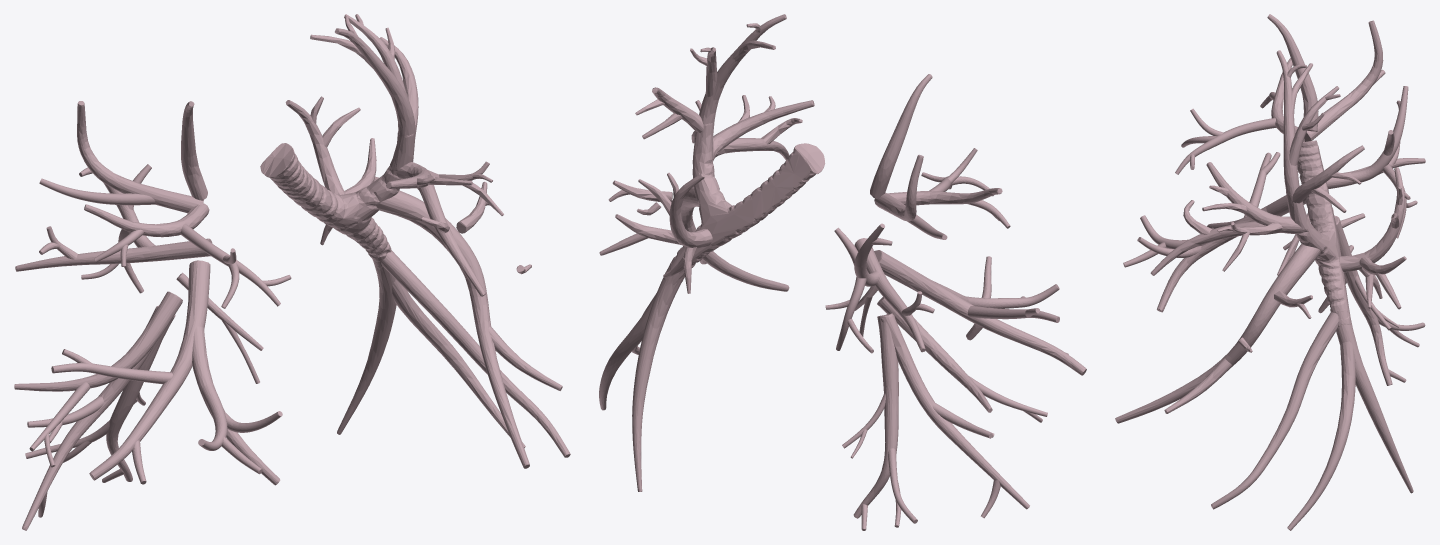
Rendered from respiratory-00.glb.
3 views of the same model, side by side, from view 1: azimuth 30°, elevation 25°; view 2: azimuth 150°, elevation 25°; view 3: azimuth 270°, elevation 25° (orthographic). The views are drawn at different scales.
Visible parts, largest first — view 1: FJ2450, FJ2441, FJ2449, FJ2442, FJ2452, FJ2445, FJ2458, FJ2446, FJ2459, FJ2455, FJ2444, FJ2451 (+16 smaller); view 2: FJ2450, FJ2449, FJ2446, FJ2455, FJ2457, FJ2454, FJ2452, FJ2441, FJ2444, FJ2443, FJ2445, FJ2448 (+13 smaller); view 3: FJ2450, FJ2441, FJ2442, FJ2445, FJ2446, FJ2458, FJ2457, FJ2444, FJ2448, FJ2443, FJ2454, FJ2467 (+14 smaller).
Boxes of the visible parts, x1,y1,x2,y2 form: FJ2450: [260, 131, 415, 268]; FJ2441: [374, 190, 529, 468]; FJ2449: [89, 260, 210, 480]; FJ2442: [381, 250, 570, 457]; FJ2452: [14, 291, 182, 391]; FJ2445: [392, 279, 525, 447]; FJ2458: [77, 101, 203, 213]; FJ2446: [337, 252, 396, 434]; FJ2459: [15, 238, 212, 271]; FJ2455: [22, 306, 157, 530]; FJ2444: [335, 28, 415, 176]; FJ2451: [192, 326, 280, 485]; FJ2450: [663, 123, 825, 285]; FJ2449: [874, 250, 1086, 375]; FJ2446: [632, 262, 684, 491]; FJ2455: [881, 313, 1029, 509]; FJ2457: [853, 314, 898, 518]; FJ2454: [870, 74, 932, 199]; FJ2452: [877, 297, 992, 412]; FJ2441: [681, 186, 789, 291]; FJ2444: [697, 14, 786, 164]; FJ2443: [713, 100, 814, 160]; FJ2445: [599, 293, 656, 410]; FJ2448: [669, 173, 712, 248]; FJ2450: [1286, 140, 1351, 326]; FJ2441: [1115, 244, 1320, 423]; FJ2442: [1211, 311, 1338, 509]; FJ2445: [1287, 341, 1355, 530]; FJ2446: [1336, 309, 1413, 493]; FJ2458: [1304, 20, 1383, 141]; FJ2457: [1335, 216, 1392, 385]; FJ2444: [1276, 50, 1304, 232]; FJ2448: [1339, 167, 1404, 272]; FJ2443: [1206, 162, 1303, 233]; FJ2454: [1267, 14, 1318, 131]; FJ2467: [1150, 221, 1281, 275].
Size of the model in its own units: 0.2379 by 0.2235 by 0.1537.
